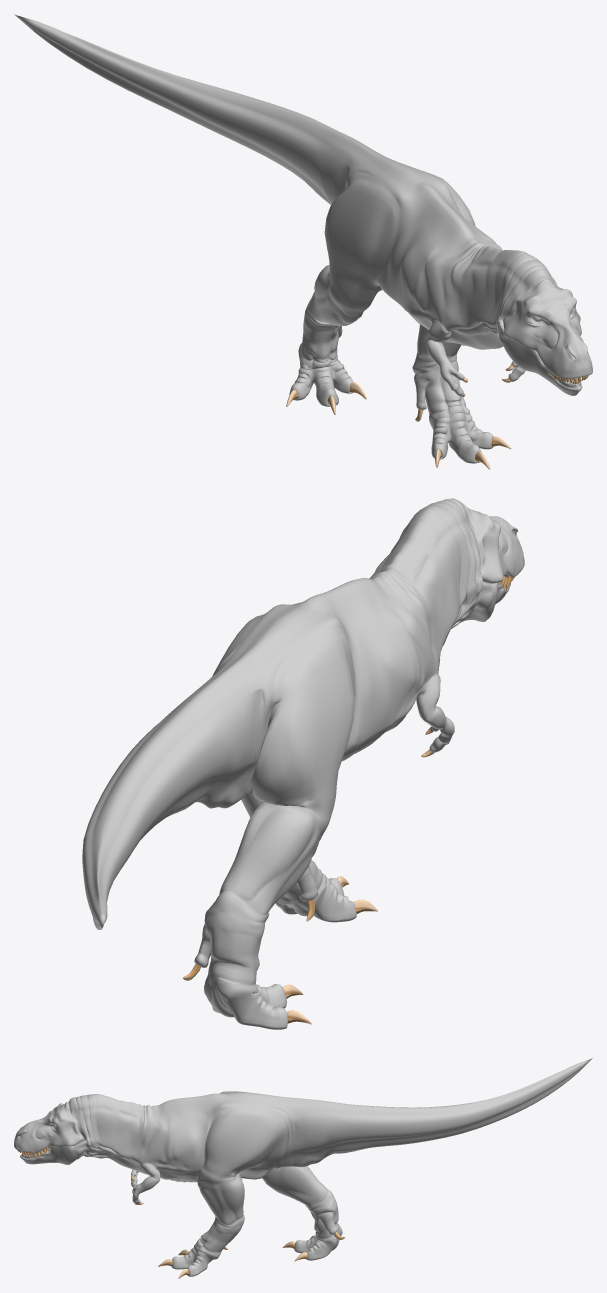
Rendered from TRex.fbx.
The picture shows the model from 3 angles, top to bottom: view 1: azimuth 30°, elevation 25°; view 2: azimuth 150°, elevation 25°; view 3: azimuth 270°, elevation 25°; orthographic projection. The views are drawn at different scales.
Parts seen in each view (by area): view 1: Skin, claws1; view 2: Skin, claws1; view 3: Skin, claws1.
Part boxes in pixels (box(x1,y1,x2,y2)): Skin: box(14, 14, 592, 463); claws1: box(286, 364, 513, 469); Skin: box(82, 498, 524, 1029); claws1: box(183, 726, 434, 1024); Skin: box(14, 1058, 592, 1276); claws1: box(131, 1175, 345, 1278).
Bounding box in the file's own units: 6.09 × 8.26 × 25.6.
